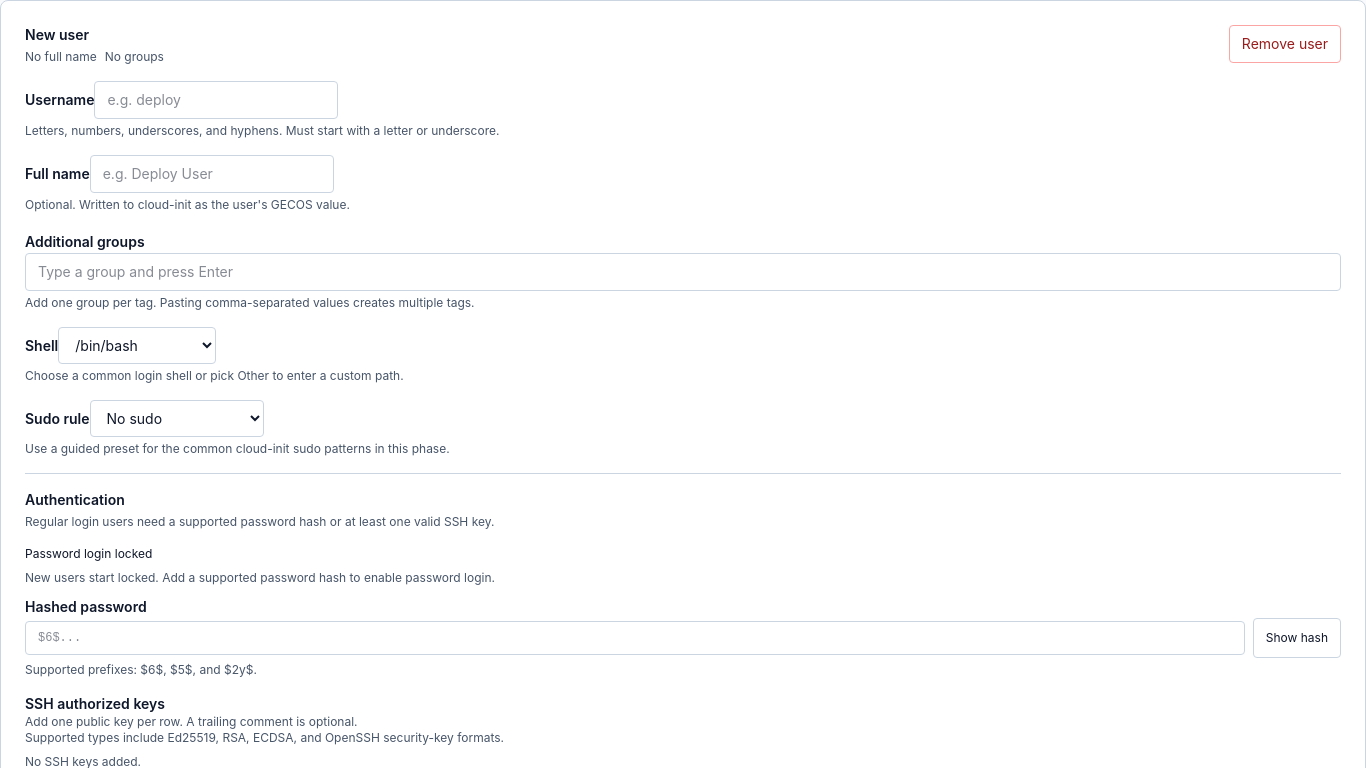
Test: CommonUserFields shell › reveals custom shell path when Other is selected
Select "Other" in the dropdown labelled "Shell" at [137, 346], box [58,327,216,364]
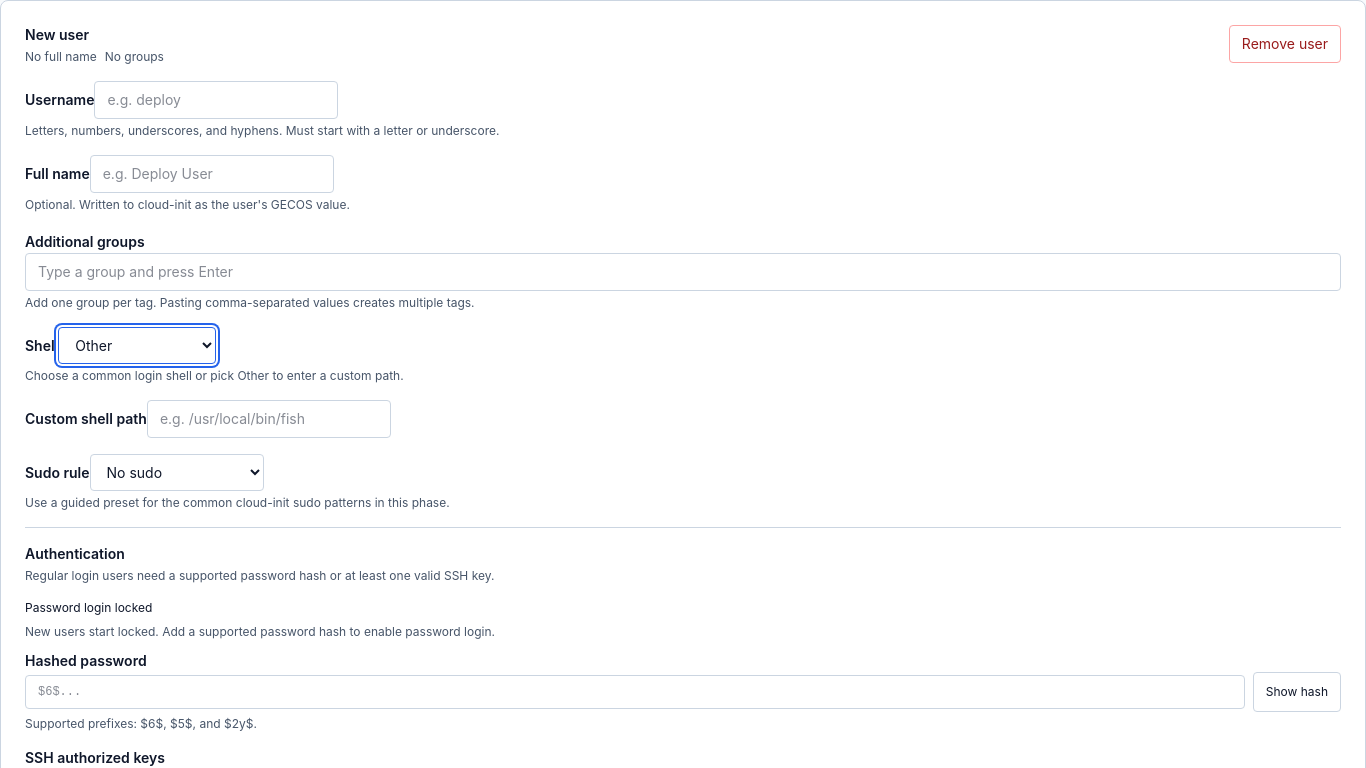
Check: the field labelled "Custom shell path" is shown, box [147,400,391,438]
